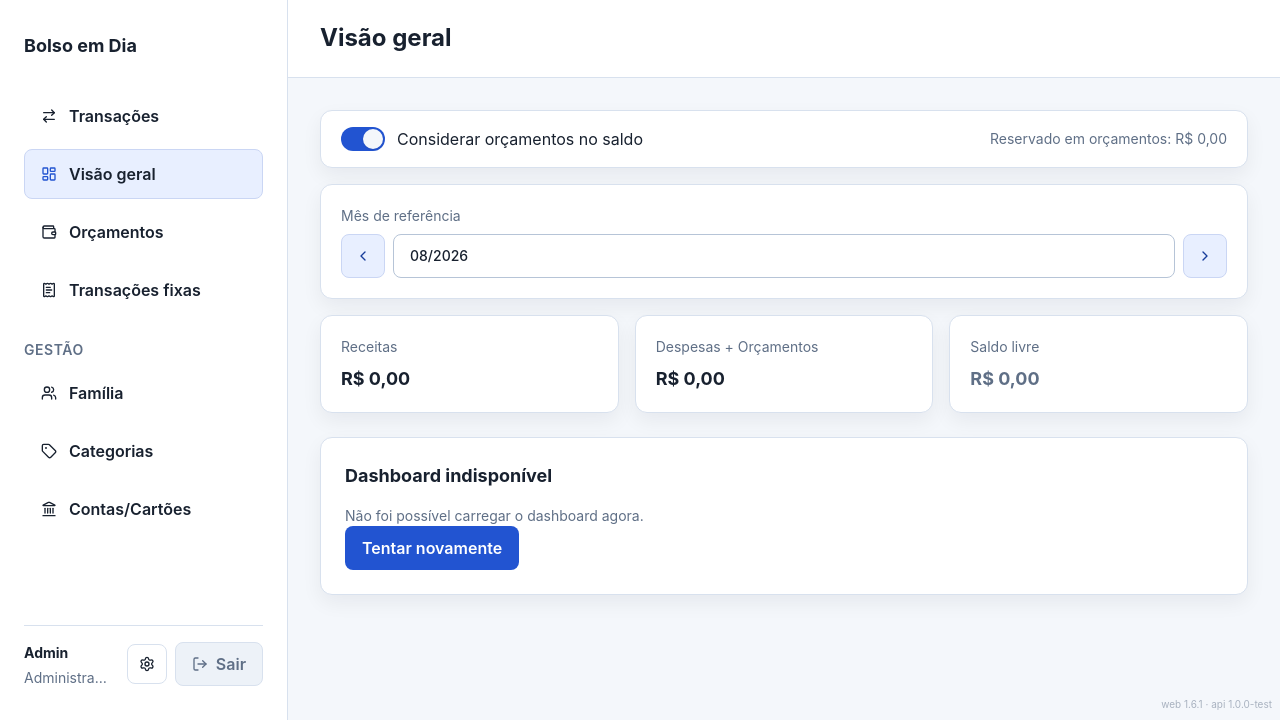
Test case: HomePage › shows an error state and retries the dashboard request
Check: the text "Não foi possível carregar o dashboard agora." is shown, box x1=345 y1=507 x2=644 y2=524
Click the button "Tentar novamente". click: click(432, 548)
box: x1=345 y1=526 x2=519 y2=570
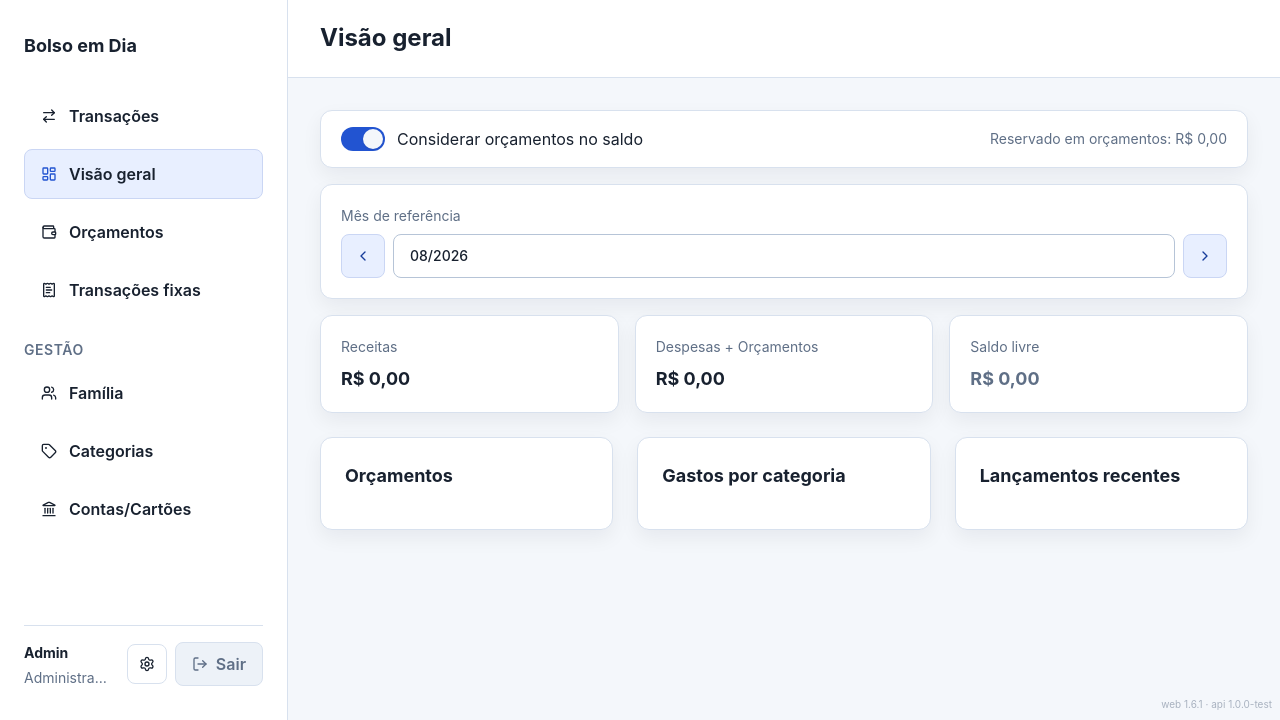
Check: the text "Orçamentos" is shown, box x1=69 y1=220 x2=164 y2=244
Check: the text "Não foi possível carregar o dashboard agora." is gone
